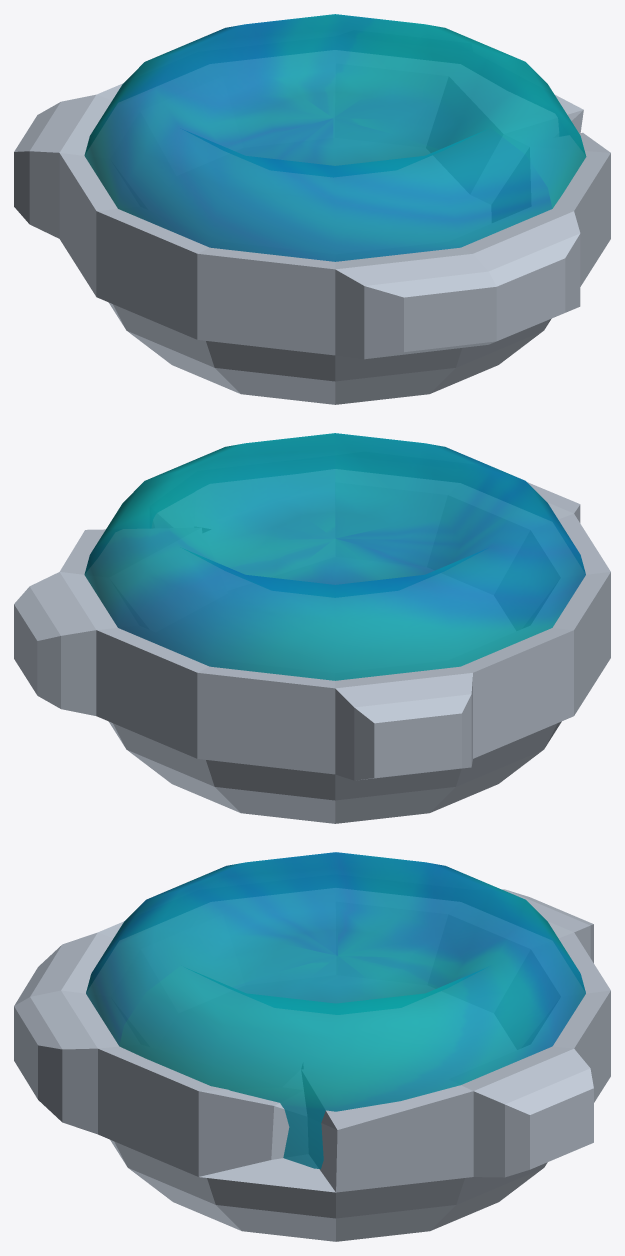
Rendered from ParkProjector.fbx.
The picture shows the model from 3 angles, top to bottom: view 1: azimuth 30°, elevation 25°; view 2: azimuth 150°, elevation 25°; view 3: azimuth 270°, elevation 25°; orthographic projection.
Parts seen in each view (by area): view 1: ParkProjector; view 2: ParkProjector; view 3: ParkProjector.
Boxes of the visible parts, bbox=[...] form: ParkProjector: bbox=[14, 14, 610, 404]; ParkProjector: bbox=[14, 433, 610, 823]; ParkProjector: bbox=[14, 852, 610, 1241].
Size of the model in its own units: 0.5668 by 0.2609 by 0.6019.
2 materials, 1 textured.
